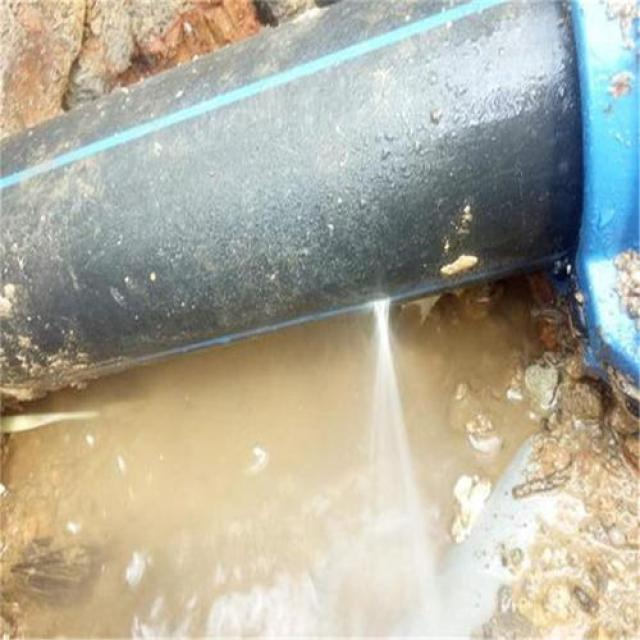leak: (369, 300, 432, 619)
